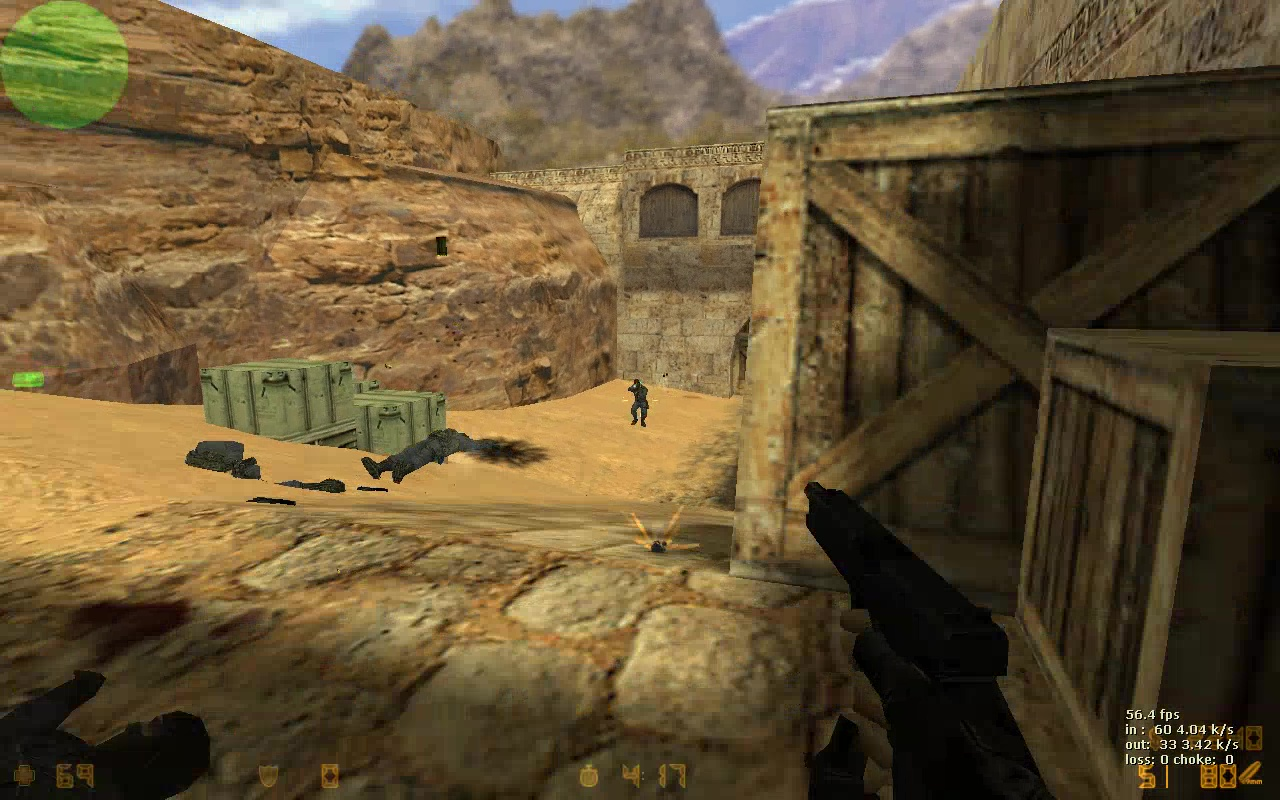ct: (625, 378, 651, 427)
dead: (361, 428, 493, 483)
